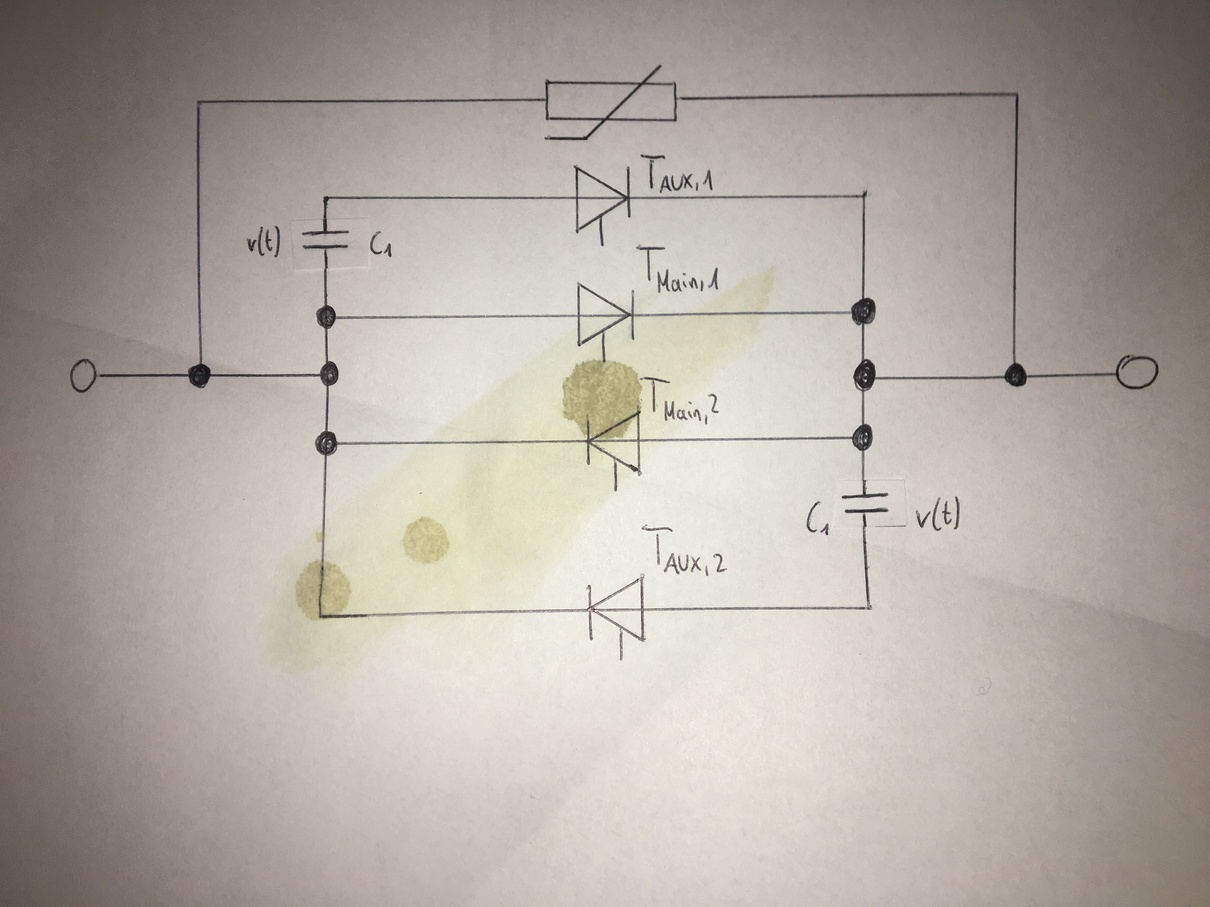capacitor.unpolarized: (839, 490, 894, 518), (299, 226, 354, 254)
junction: (851, 357, 878, 393), (850, 296, 878, 328), (1002, 360, 1030, 389), (850, 422, 876, 453), (186, 361, 213, 390), (314, 429, 341, 457), (314, 303, 339, 331), (318, 359, 341, 388), (320, 191, 334, 207), (858, 187, 871, 202), (863, 600, 875, 614), (1010, 89, 1023, 101), (193, 96, 206, 107), (316, 610, 327, 622)
terminal: (1114, 352, 1162, 392), (67, 357, 106, 395)
text: (639, 523, 729, 578), (634, 244, 722, 295), (637, 374, 720, 426), (638, 151, 715, 194), (913, 494, 962, 534), (245, 224, 283, 260), (803, 499, 832, 537), (368, 229, 395, 260)
thyristor: (583, 571, 651, 647), (570, 160, 636, 237), (573, 278, 639, 350), (582, 406, 645, 480)
varistor: (541, 61, 683, 144)
